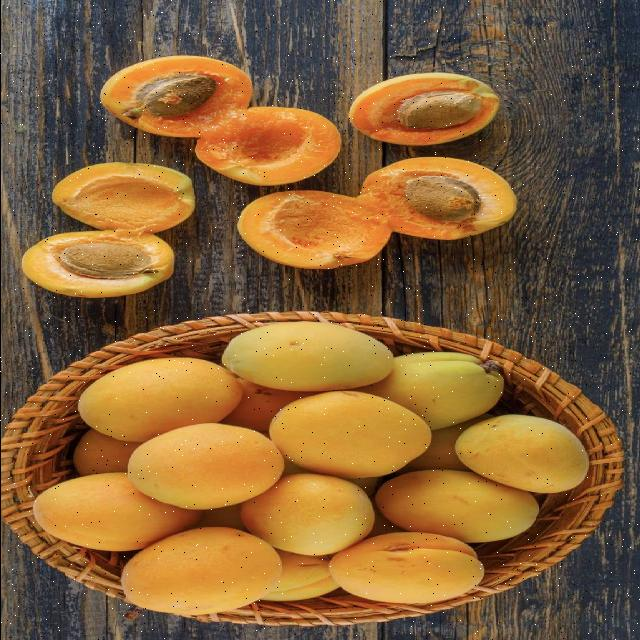Cekirdek: (124, 73, 215, 116), (403, 176, 480, 222), (396, 91, 481, 130), (60, 244, 150, 279)
Kayisi: (269, 391, 430, 479), (120, 528, 280, 616), (77, 358, 241, 442), (127, 424, 282, 510), (237, 191, 392, 269), (221, 322, 393, 392), (328, 533, 482, 604), (241, 474, 374, 556), (454, 415, 588, 492), (52, 163, 194, 233)
